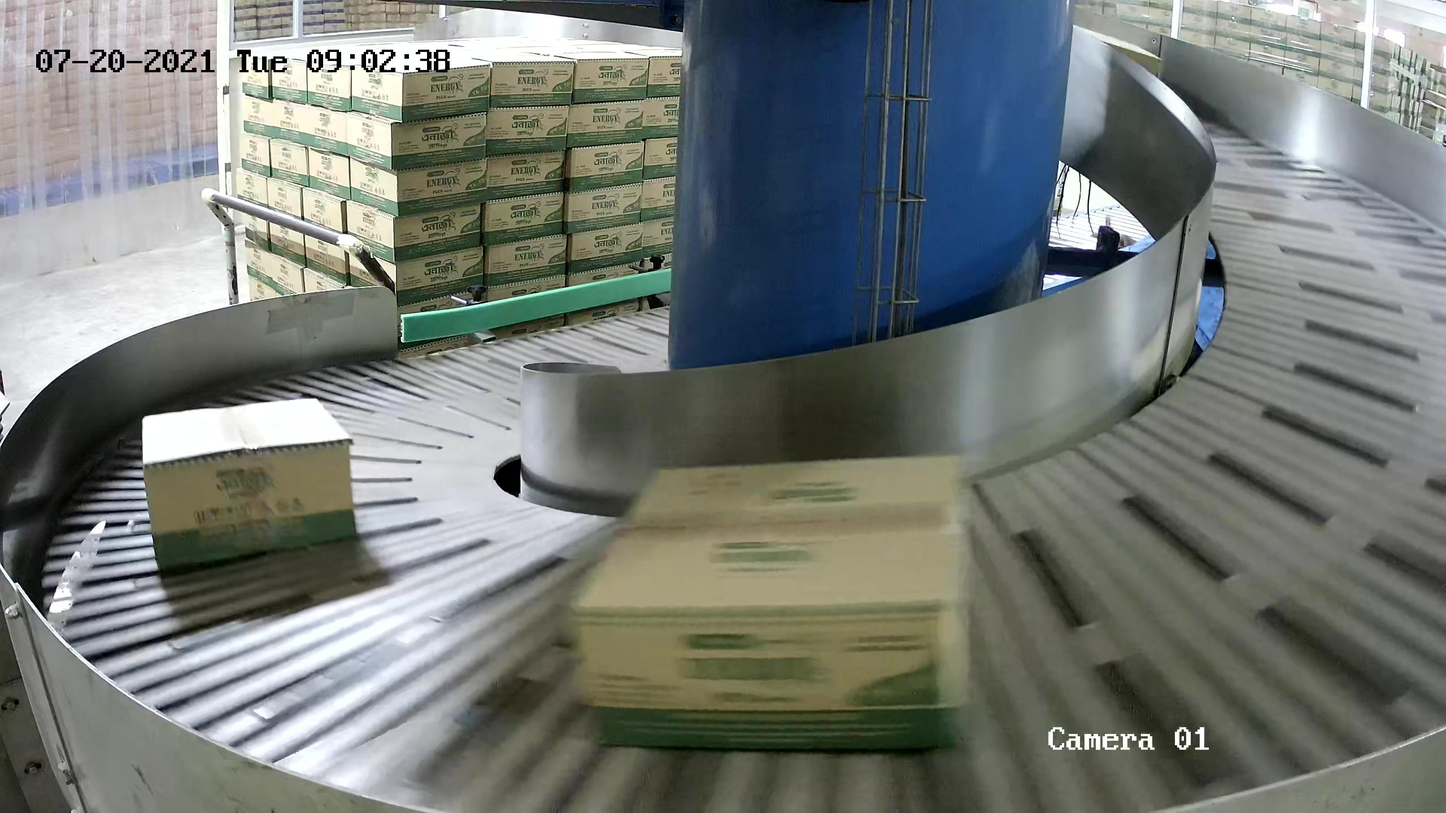Box: (567, 453, 972, 754), (140, 396, 359, 570)
